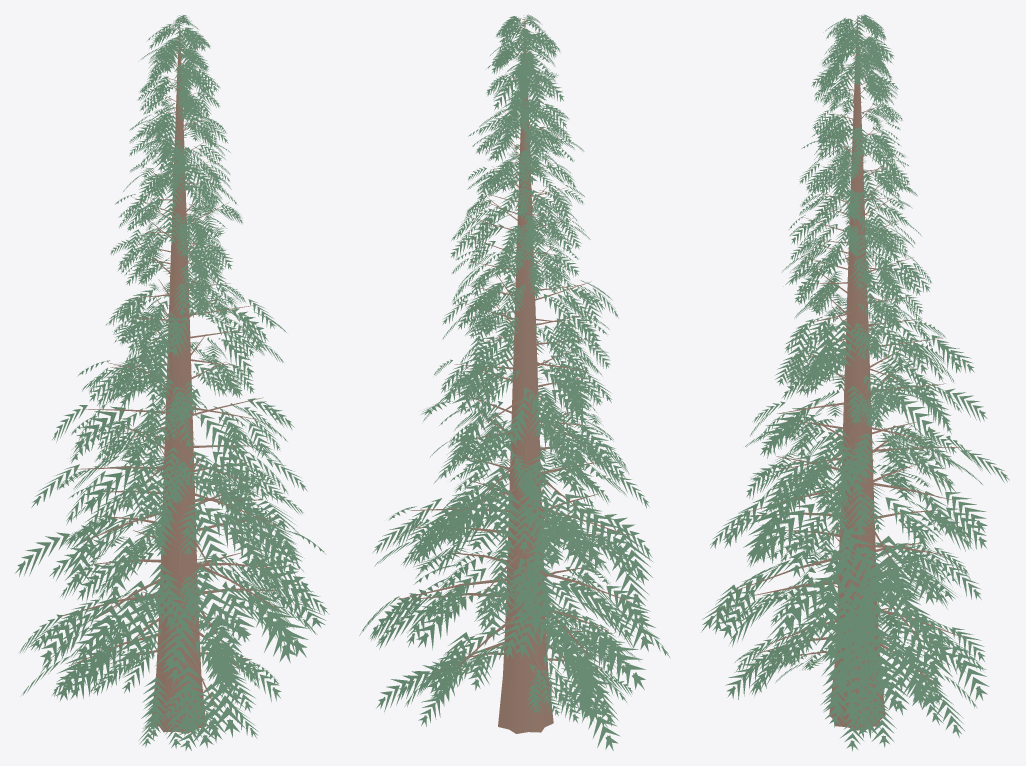
File: Blender_YoungRedwood_2.glb
3 views of the same model, side by side, from view 1: azimuth 30°, elevation 25°; view 2: azimuth 150°, elevation 25°; view 3: azimuth 270°, elevation 25° (orthographic).
Visible parts, largest first — view 1: Blender_YoungRedwood_2; view 2: Blender_YoungRedwood_2; view 3: Blender_YoungRedwood_2.
Boxes of the visible parts, bbox=[...] form: Blender_YoungRedwood_2: bbox=[15, 15, 329, 750]; Blender_YoungRedwood_2: bbox=[359, 14, 670, 750]; Blender_YoungRedwood_2: bbox=[701, 14, 1009, 751].
Size of the model in its own units: 9.42 by 21.79 by 8.68.
